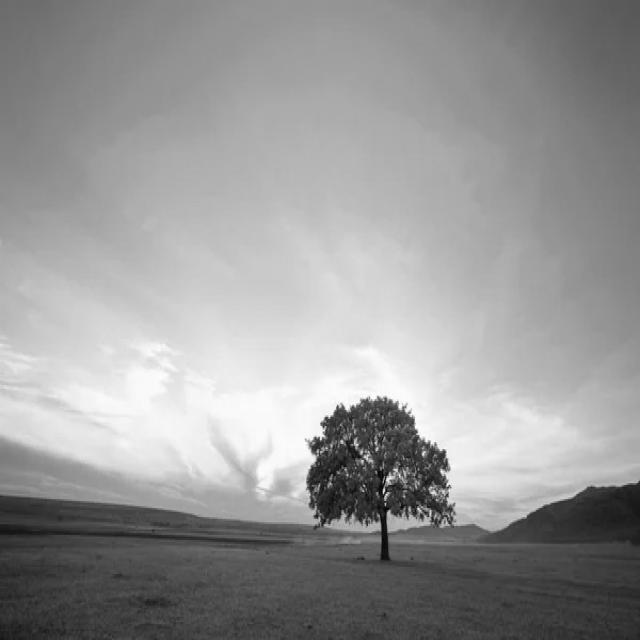Tree: (307, 398, 456, 560)
